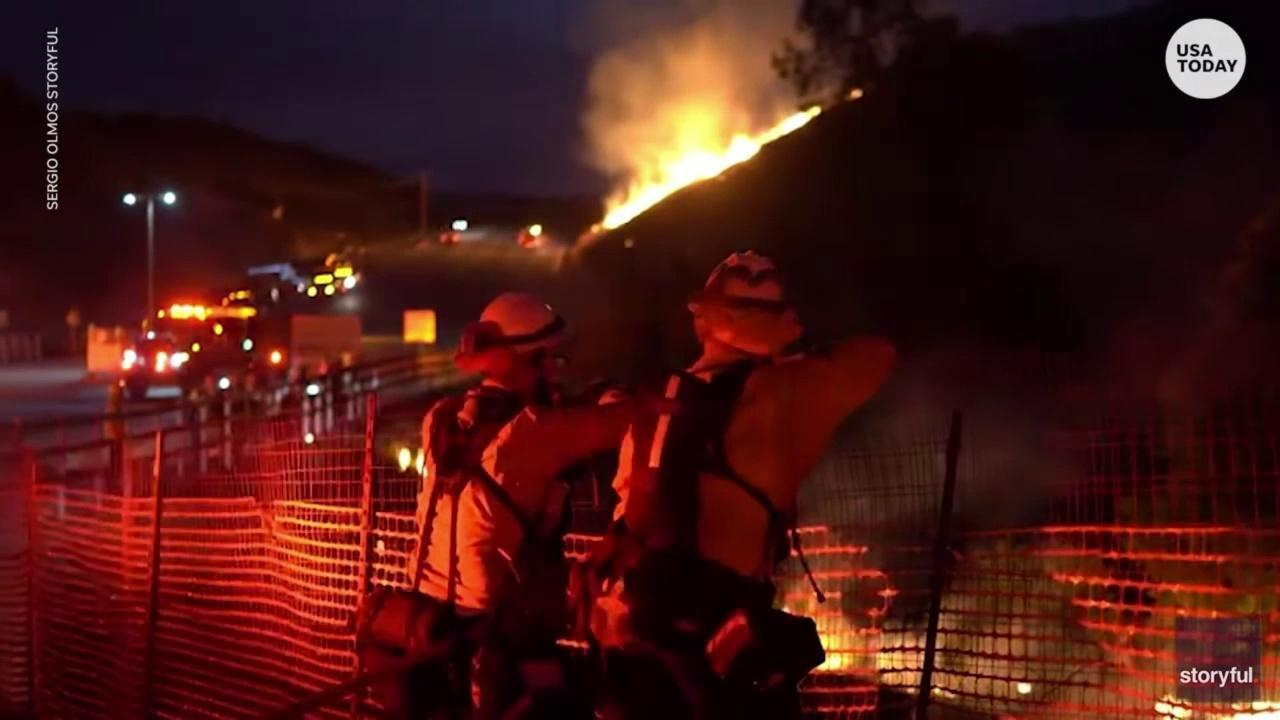fire: (600, 102, 821, 232), (814, 618, 857, 670), (1202, 698, 1280, 720), (1153, 695, 1193, 720), (934, 684, 956, 698), (1016, 682, 1033, 695), (849, 89, 863, 101)
smoke: (775, 128, 1269, 624), (564, 0, 913, 194)
